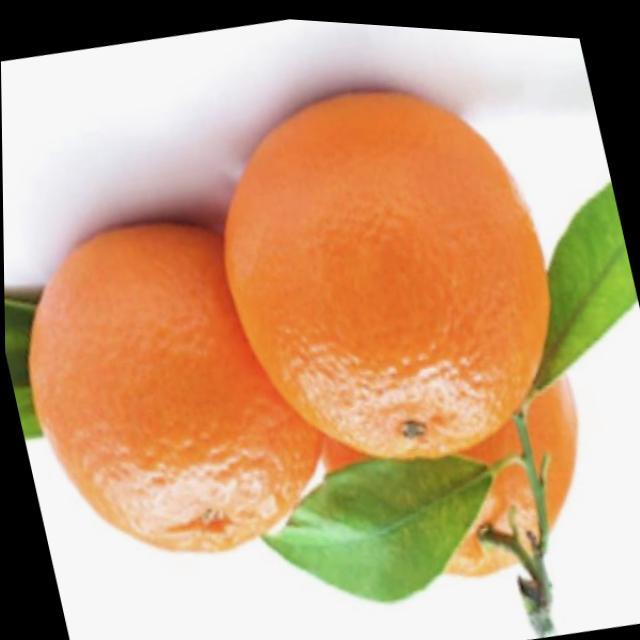Orange: (187, 45, 583, 496), (2, 185, 343, 589), (308, 351, 609, 607)
